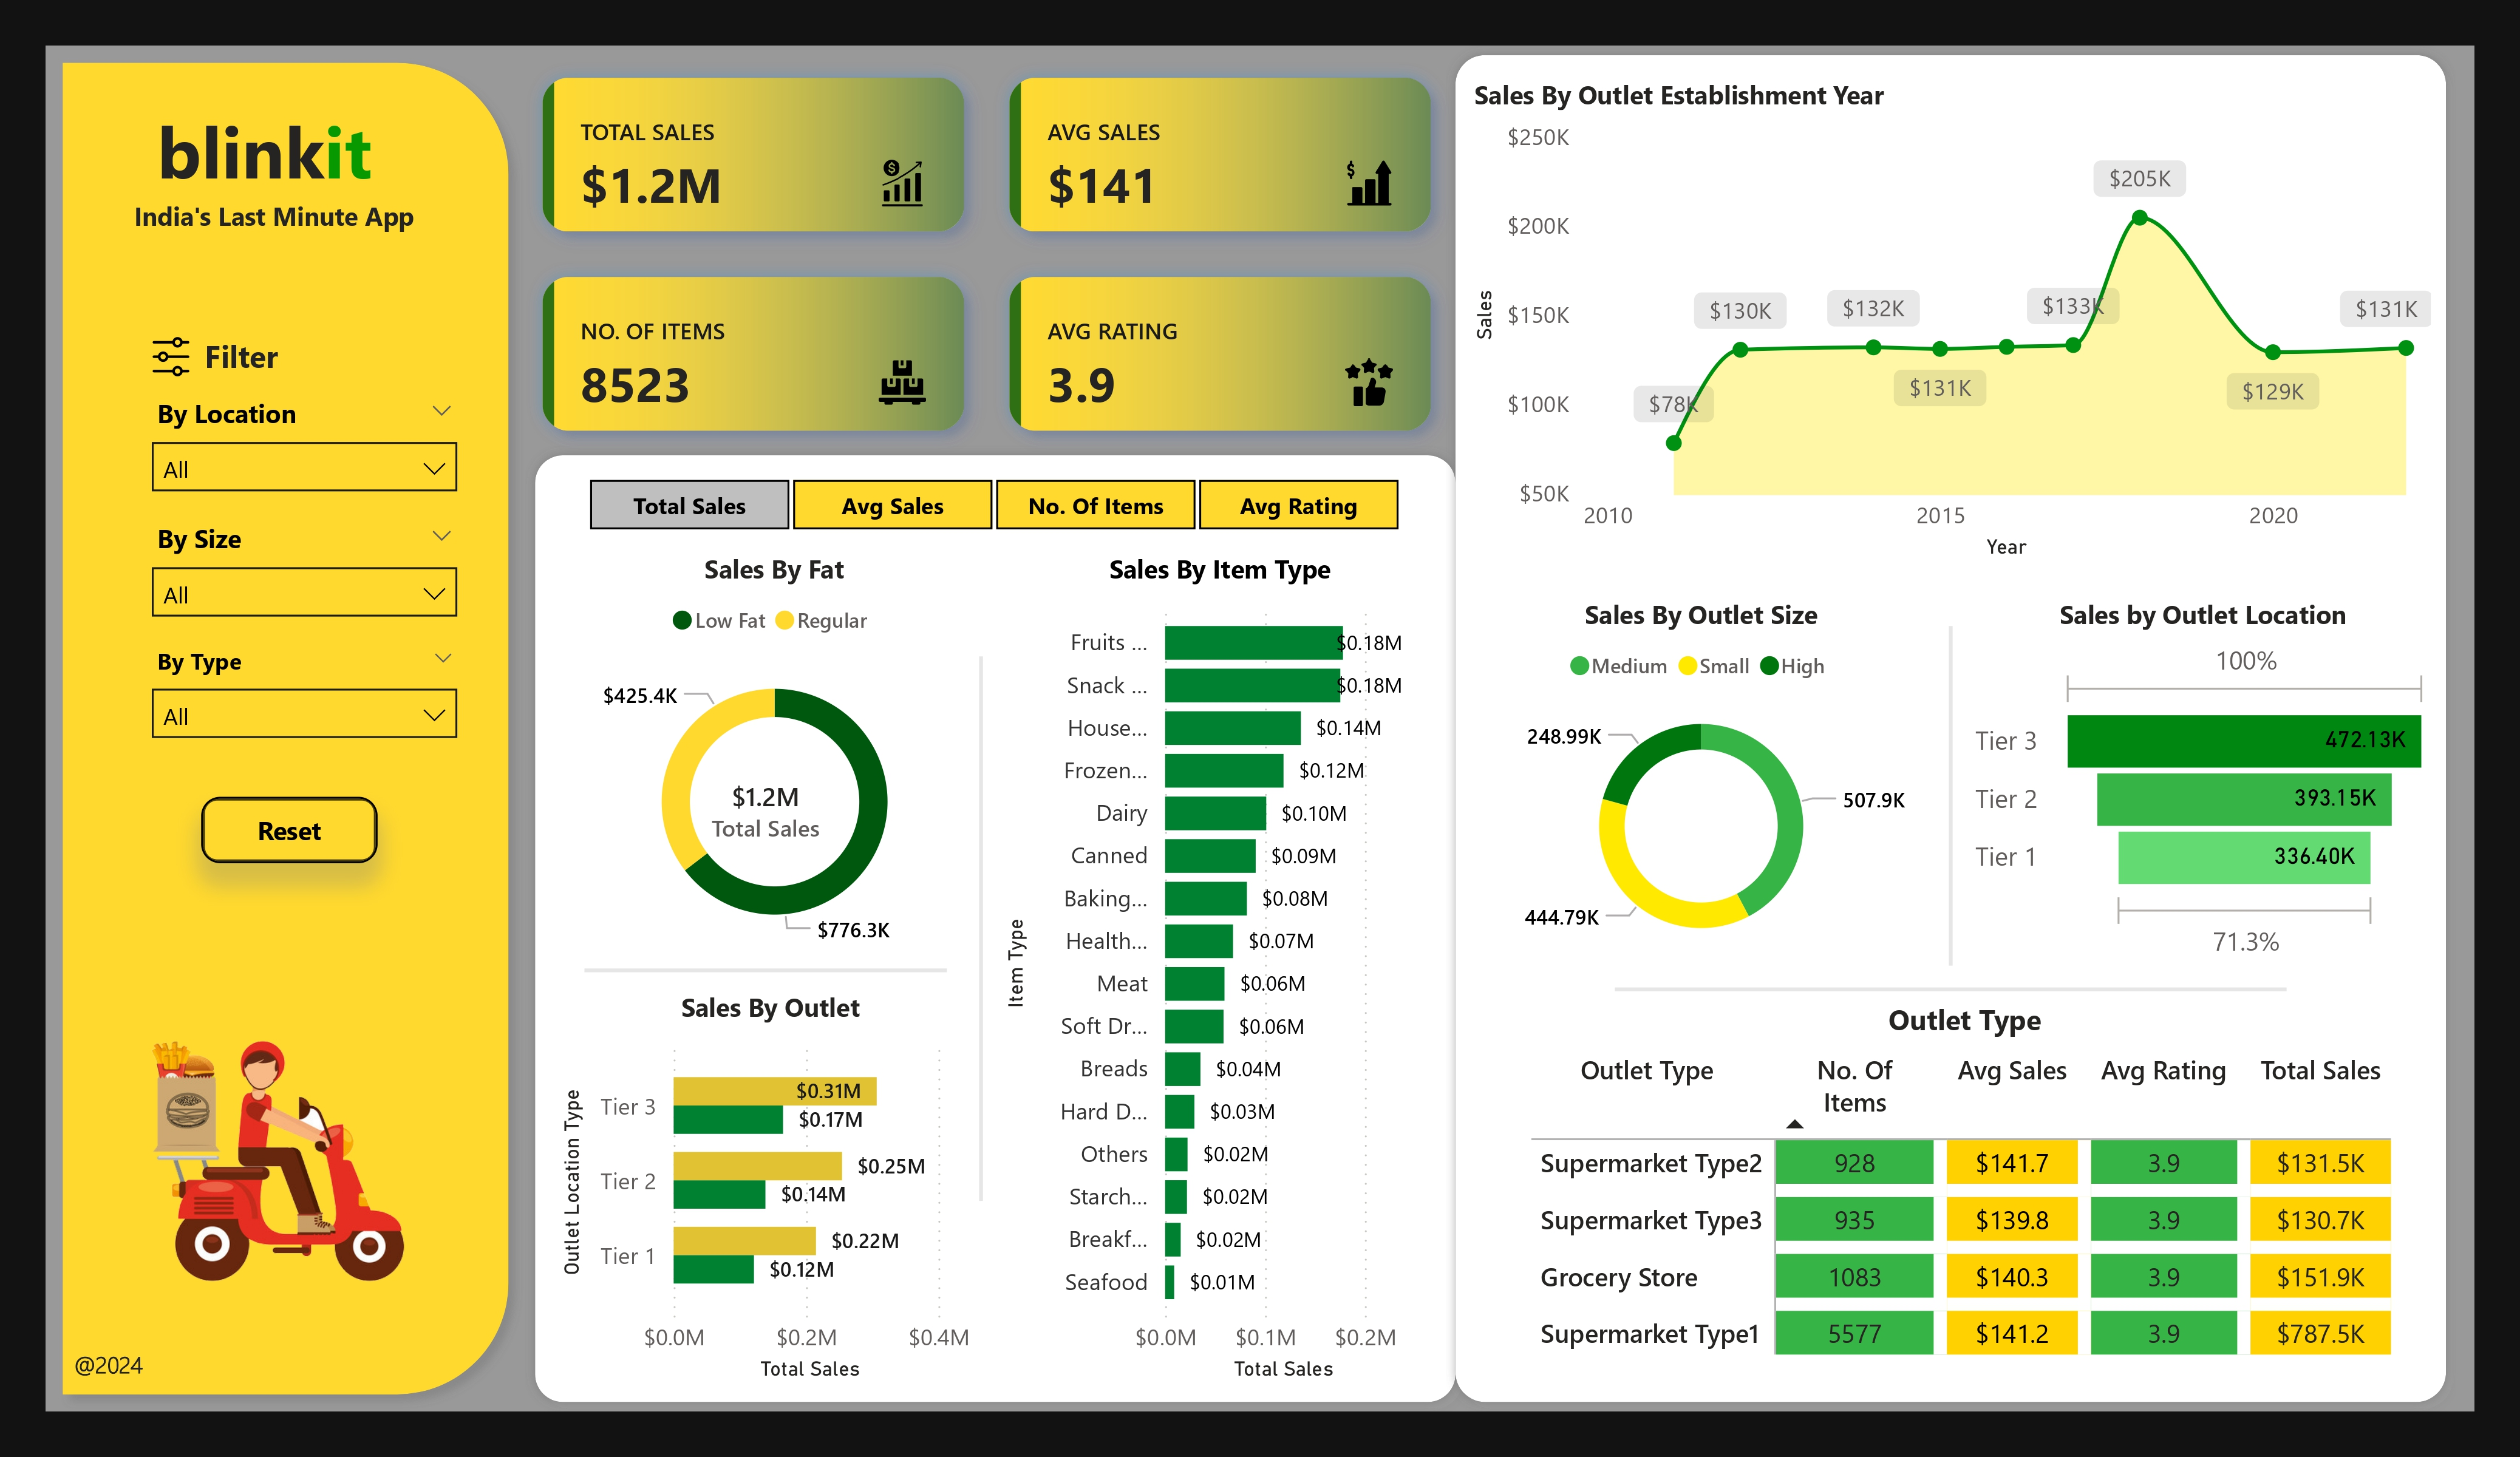

The dashboard page shown, as its layout file describes it:
{"tool":"powerbi","page":{"name":"Home","canvas":[1280,720],"ordinal":0},"visuals":[{"type":"shape","box":[0,0,253.2,720],"z":0},{"type":"textbox","box":[0,25.3,230.5,78.8],"z":1000},{"type":"textbox","box":[10,76,221,32],"z":2000},{"type":"cardVisual","fields":{"Data":["BlinkIT Grocery Data.Total Sales","BlinkIT Grocery Data.Avg Sale","BlinkIT Grocery Data.No. Of Items","BlinkIT Grocery Data.Avg Rating"]},"box":[245.1,0,502.9,221.8],"z":3000},{"type":"shape","box":[252.9,211.1,495.1,508.7],"z":4000},{"type":"donutChart","title":"Sales By Fat","fields":{"Y":["BlinkIT Grocery Data.Total Sales"],"Category":["BlinkIT Grocery Data.Item Fat Content"]},"box":[266.5,266.5,234.4,218.8],"z":5000},{"type":"slicer","fields":{"Values":["Metrix.Metrix"]},"box":[260.7,221.8,476.6,39.9],"z":6000},{"type":"cardVisual","fields":{"Data":["BlinkIT Grocery Data.Total Sales"]},"box":[327.8,353.1,103.1,101.2],"z":7000},{"type":"clusteredBarChart","title":"Sales By Outlet","fields":{"Y":["BlinkIT Grocery Data.Total Sales"],"Series":["BlinkIT Grocery Data.Item Fat Content"],"Category":["BlinkIT Grocery Data.Outlet Location Type"]},"box":[266.5,498,230.5,210.1],"z":8000},{"type":"shape","box":[284,479.5,190.6,15.6],"z":9000},{"type":"shape","box":[489.2,321.9,7.8,286.9],"z":10000},{"type":"barChart","title":"Sales By Item Type","fields":{"Y":["BlinkIT Grocery Data.Total Sales"],"Category":["BlinkIT Grocery Data.Item Type"]},"box":[500.9,266.5,236.4,441.6],"z":11000},{"type":"shape","box":[738.2,0,532,719.8],"z":12000},{"type":"lineChart","title":"Sales By Outlet Establishment Year","fields":{"Y":["BlinkIT Grocery Data.Total Sales"],"Category":["BlinkIT Grocery Data.Outlet Establishment Year"]},"box":[748,16.5,513.6,258.7],"z":13000},{"type":"donutChart","title":"Sales By Outlet Size","fields":{"Y":["Sum(BlinkIT Grocery Data.Sales)"],"Category":["BlinkIT Grocery Data.Outlet Size"]},"box":[748,290.8,249,196.5],"z":14000},{"type":"funnel","title":"Sales by Outlet Location","fields":{"Y":["Sum(BlinkIT Grocery Data.Sales)"],"Category":["BlinkIT Grocery Data.Outlet Location Type"]},"box":[1011.6,290.8,250,196.5],"z":15000},{"type":"pivotTable","title":"Outlet Type","fields":{"Rows":["BlinkIT Grocery Data.Outlet Type"],"Values":["BlinkIT Grocery Data.No. Of Items","BlinkIT Grocery Data.Avg Sales","BlinkIT Grocery Data.Avg Rating","BlinkIT Grocery Data.Total Sales"]},"box":[778.1,502.9,466.9,199.4],"z":16000},{"type":"shape","box":[996,306.4,15.6,179],"z":17000},{"type":"shape","box":[826.7,491.2,354,12.6],"z":18000},{"type":"slicer","fields":{"Values":["BlinkIT Grocery Data.Outlet Location Type"]},"box":[46,180,181,66],"z":19000},{"type":"slicer","fields":{"Values":["BlinkIT Grocery Data.Outlet Size"]},"box":[46,246,181,65],"z":20000},{"type":"slicer","fields":{"Values":["BlinkIT Grocery Data.Outlet Type"]},"box":[46,311,181,66],"z":21000},{"type":"image","box":[46,148,39,32],"z":22000},{"type":"textbox","box":[79,148,114,42],"z":23000},{"type":"actionButton","box":[82,396,93,35],"z":24000},{"type":"textbox","box":[10,681,56,28],"z":25000},{"type":"image","box":[0,465,245,255],"z":26000}]}

Visuals, with their boxes in screenshot pixels (x1, y1, x2, y2):
shape: BBox(46, 46, 526, 1411)
textbox: BBox(46, 93, 483, 243)
textbox: BBox(64, 189, 484, 250)
cardVisual - BlinkIT Grocery Data.Total Sales x BlinkIT Grocery Data.Avg Sale: BBox(511, 46, 1465, 466)
shape: BBox(525, 446, 1465, 1411)
"Sales By Fat" donutChart: BBox(551, 551, 996, 966)
slicer - Metrix.Metrix: BBox(540, 466, 1445, 542)
cardVisual - BlinkIT Grocery Data.Total Sales: BBox(667, 715, 863, 908)
"Sales By Outlet" clusteredBarChart: BBox(551, 990, 989, 1389)
shape: BBox(584, 955, 946, 985)
shape: BBox(974, 656, 989, 1200)
"Sales By Item Type" barChart: BBox(996, 551, 1445, 1389)
shape: BBox(1446, 46, 2456, 1411)
"Sales By Outlet Establishment Year" lineChart: BBox(1465, 77, 2439, 568)
"Sales By Outlet Size" donutChart: BBox(1465, 597, 1938, 970)
"Sales by Outlet Location" funnel: BBox(1965, 597, 2439, 970)
"Outlet Type" pivotTable: BBox(1522, 1000, 2408, 1378)
shape: BBox(1936, 627, 1965, 966)
shape: BBox(1614, 977, 2286, 1001)
slicer - BlinkIT Grocery Data.Outlet Location Type: BBox(133, 387, 476, 512)
slicer - BlinkIT Grocery Data.Outlet Size: BBox(133, 512, 476, 636)
slicer - BlinkIT Grocery Data.Outlet Type: BBox(133, 636, 476, 761)
image: BBox(133, 327, 207, 387)
textbox: BBox(196, 327, 412, 406)
actionButton: BBox(201, 796, 378, 863)
textbox: BBox(64, 1337, 171, 1391)
image: BBox(46, 928, 511, 1411)
